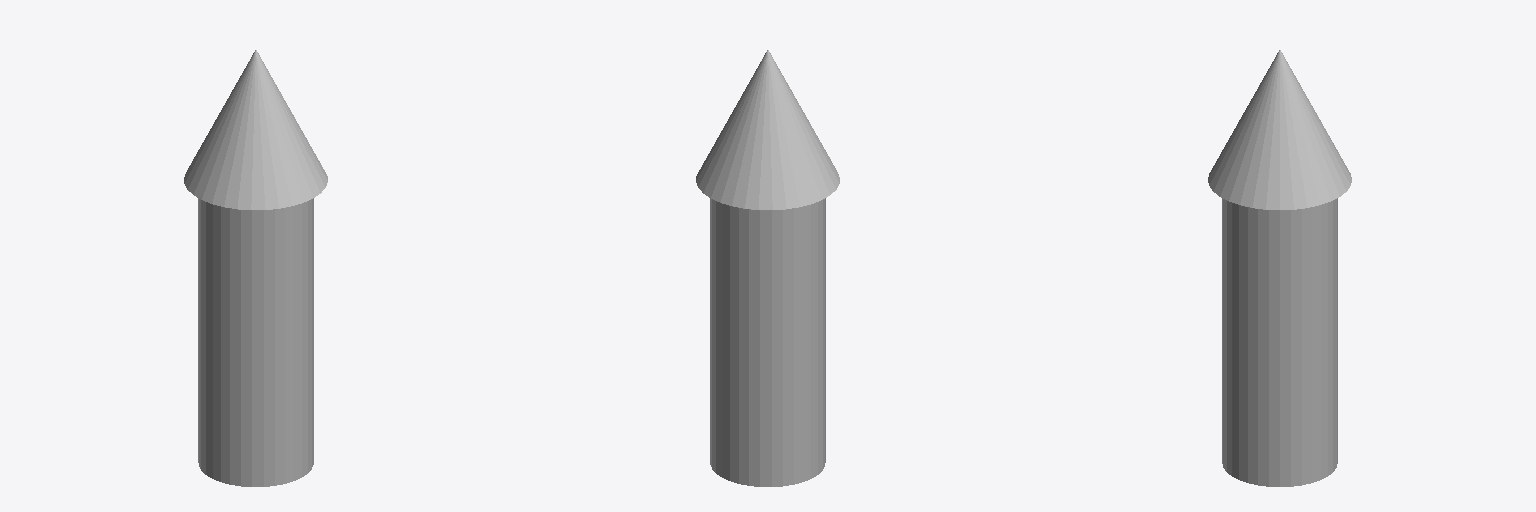
The model's file is arrow.obj.
3 views of the same model, side by side, from view 1: azimuth 30°, elevation 25°; view 2: azimuth 150°, elevation 25°; view 3: azimuth 270°, elevation 25° (orthographic).
Visible parts, largest first — view 1: Cylinder, Cone; view 2: Cylinder, Cone; view 3: Cylinder, Cone.
Part boxes in pixels (x1,y1,x2,y2): Cylinder: (198,198,313,486); Cone: (184,50,327,209); Cylinder: (710,198,825,486); Cone: (696,50,839,209); Cylinder: (1222,198,1337,486); Cone: (1208,50,1351,209).
Size of the model in its own units: 2.5 by 7.91 by 2.5.